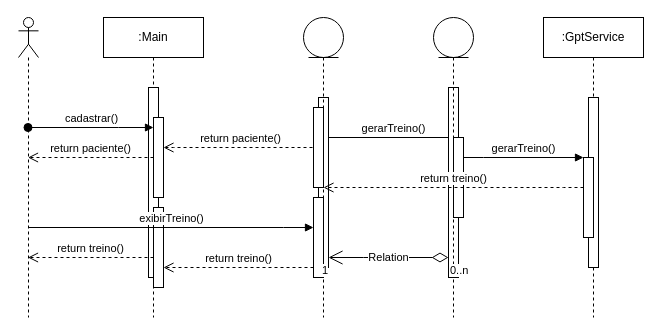
The diagram is 661 pixels wide and 335 high, and some of its shapes have lost their labels. The centre of each missing label's shape, as x and y in pixels:
Paciente: point (323, 167)
Treino: point (453, 167)
